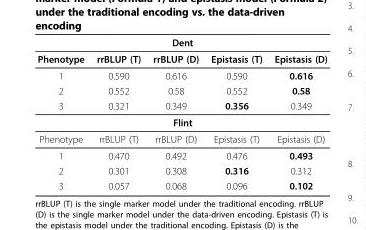table: (36, 36, 326, 191)
table column: (204, 36, 267, 191), (267, 36, 326, 191), (146, 36, 204, 191), (89, 36, 146, 191), (36, 36, 89, 191)
table column header: (36, 36, 326, 66)
table projected row header: (36, 113, 326, 130)
table row: (36, 113, 326, 130), (36, 50, 326, 66), (36, 66, 326, 82), (36, 97, 326, 113), (36, 130, 326, 146), (36, 146, 326, 162), (36, 82, 326, 97), (36, 162, 326, 177), (36, 36, 326, 50), (36, 177, 326, 191)
table spanning cell: (36, 36, 326, 50)
